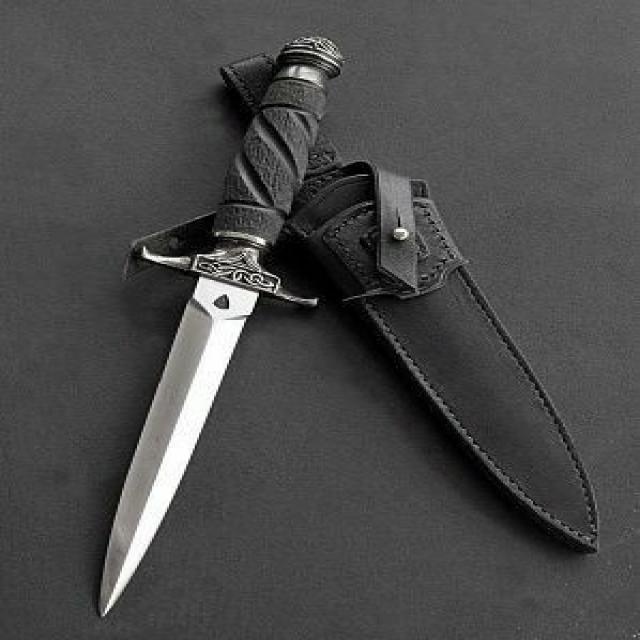short sword: (83, 28, 365, 620)
